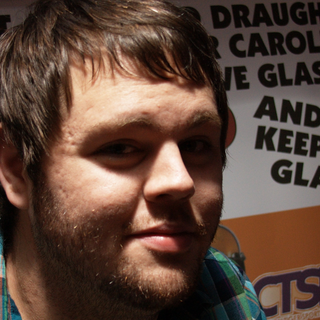eye: (88, 139, 141, 163)
